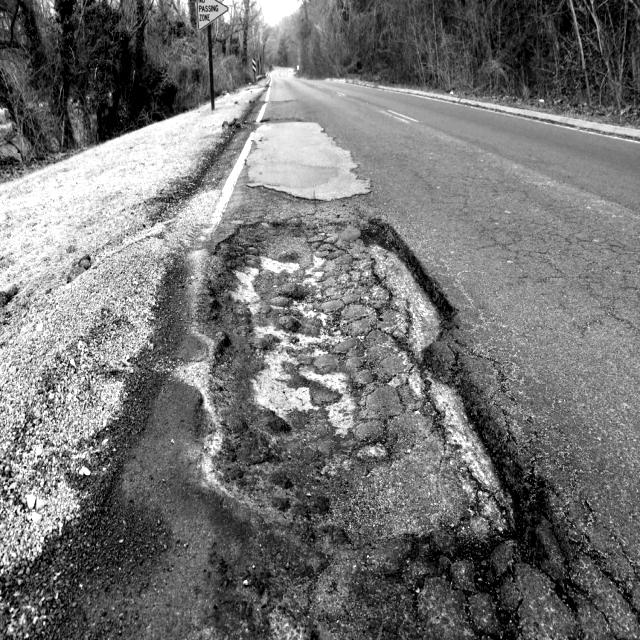pathole: (205, 199, 549, 640)
